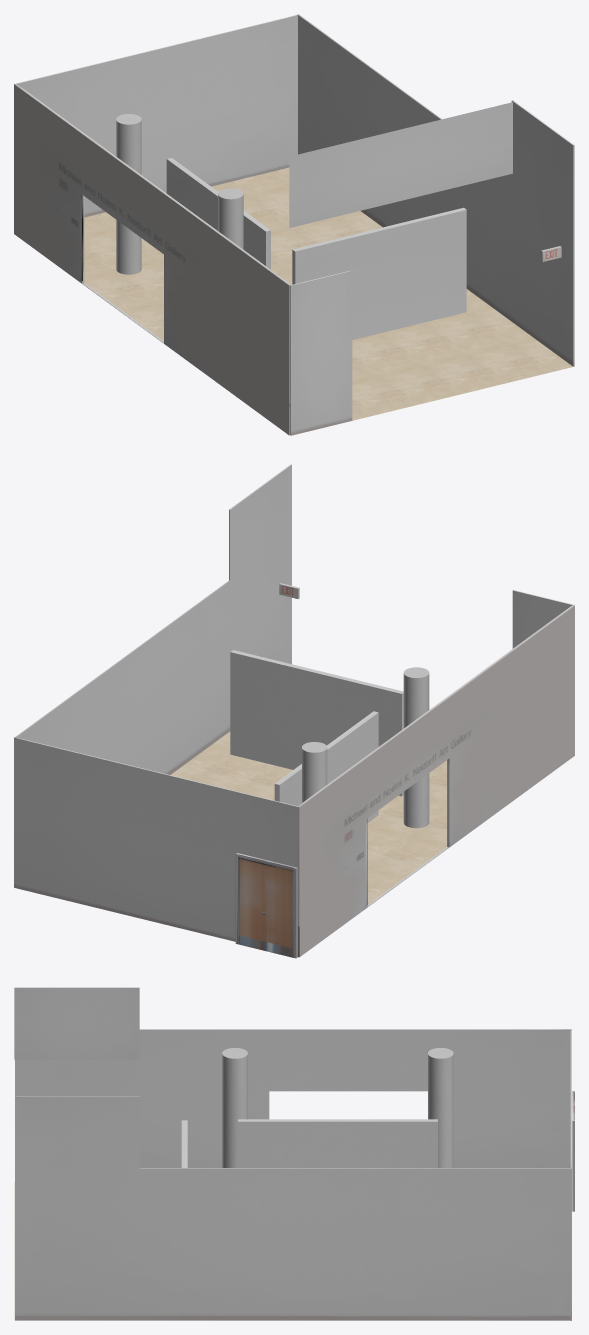
File: gallerymodel1.glb
3 renders of one model, top to bottom at view 1: azimuth 30°, elevation 25°; view 2: azimuth 150°, elevation 25°; view 3: azimuth 270°, elevation 25°, orthographic.
Parts seen in each view (by area): view 1: backwall, Cube.000, Cube.001; view 2: backwall, Cube.000, Cube.001; view 3: backwall, Cube.001.
Part boxes in pixels (x1=…): backwall: x1=14, y1=14, x2=574, y2=435; Cube.000: x1=292, y1=207, x2=466, y2=339; Cube.001: x1=166, y1=158, x2=270, y2=269; backwall: x1=14, y1=464, x2=574, y2=958; Cube.000: x1=230, y1=650, x2=403, y2=796; Cube.001: x1=274, y1=711, x2=378, y2=822; backwall: x1=14, y1=987, x2=574, y2=1320; Cube.001: x1=238, y1=1119, x2=437, y2=1167.
Bounding box in the file's own units: 23.28 × 17.3 × 39.28.
Materials: 9 (9 with a texture image).
